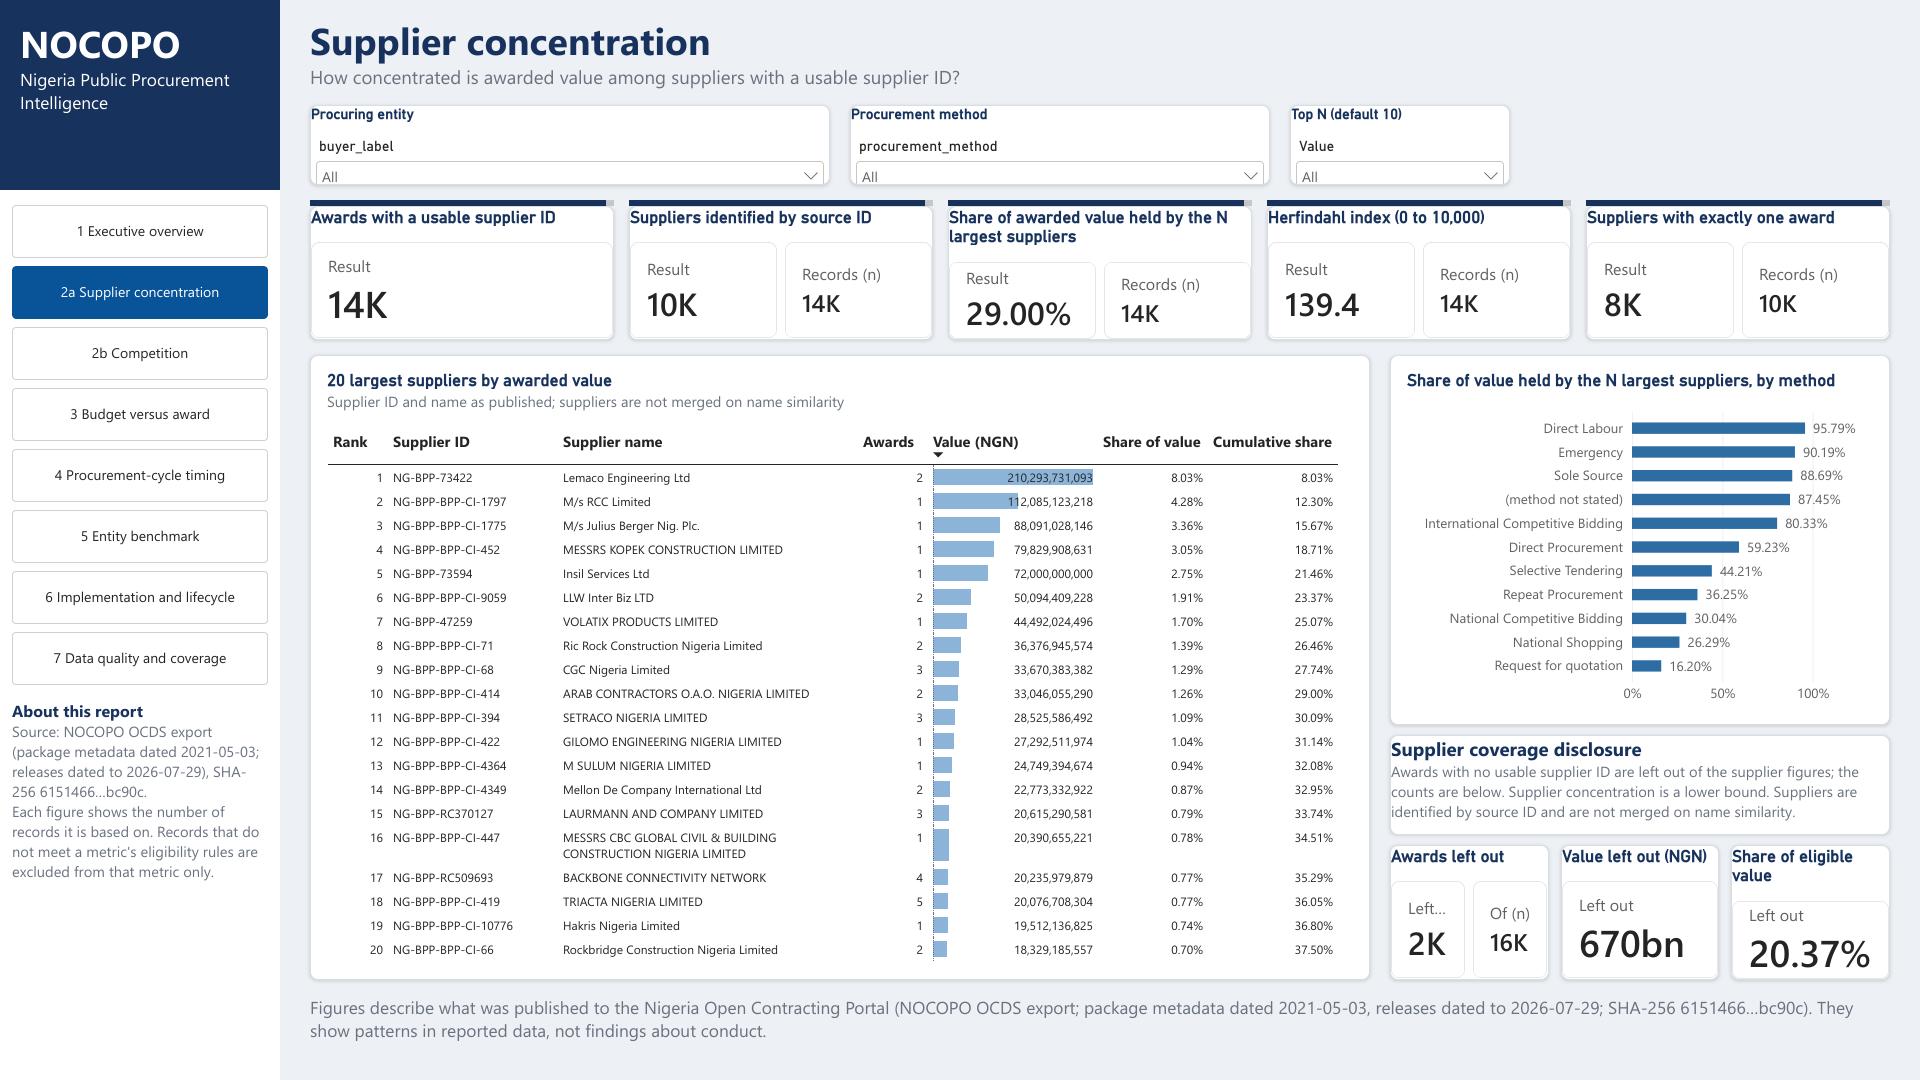

The dashboard page shown, as its layout file describes it:
{"tool":"powerbi","page":{"name":"2a Supplier concentration","canvas":[1920,1080],"ordinal":1},"visuals":[{"type":"textbox","box":[0,0,280,190],"z":0},{"type":"textbox","box":[0,190,280,890],"z":1},{"type":"textbox","box":[20,18,250,150],"z":2},{"type":"pageNavigator","box":[12,205,256,480],"z":3},{"type":"textbox","box":[12,700,256,360],"z":4},{"type":"textbox","box":[310,15,1580,80],"z":5},{"type":"textbox","box":[310,995,1580,70],"z":6},{"type":"slicer","title":"Procuring entity","fields":{"Values":["DimBuyer.buyer_label"]},"box":[310,105,520,80],"z":7},{"type":"slicer","title":"Procurement method","fields":{"Values":["DimMethod.procurement_method"]},"box":[850,105,420,80],"z":8},{"type":"slicer","title":"Top N (default 10)","fields":{"Values":["Top N.Value"]},"box":[1290,105,220,80],"z":9},{"type":"textbox","box":[310,200,304,6],"z":10},{"type":"cardVisual","title":"Awards with a usable supplier ID","fields":{"Data":["_Measures.M-S01 Eligible Awards"]},"box":[310,206,304,134],"z":11},{"type":"textbox","box":[629,200,304,6],"z":12},{"type":"cardVisual","title":"Suppliers identified by source ID","fields":{"Data":["_Measures.Suppliers (n)","_Measures.M-S01 Eligible Awards"]},"box":[629,206,304,134],"z":13},{"type":"textbox","box":[948,200,304,6],"z":14},{"type":"cardVisual","title":"Share of awarded value held by the N largest suppliers","fields":{"Data":["_Measures.Top N Supplier Share","_Measures.M-S01 Eligible Awards"]},"box":[948,206,304,134],"z":15},{"type":"textbox","box":[1267,200,304,6],"z":16},{"type":"cardVisual","title":"Herfindahl index (0 to 10,000)","fields":{"Data":["_Measures.Supplier HHI","_Measures.M-S01 Eligible Awards"]},"box":[1267,206,304,134],"z":17},{"type":"textbox","box":[1586,200,304,6],"z":18},{"type":"cardVisual","title":"Suppliers with exactly one award","fields":{"Data":["_Measures.Suppliers With One Award","_Measures.Suppliers (n)"]},"box":[1586,206,304,134],"z":19},{"type":"tableEx","title":"20 largest suppliers by awarded value","fields":{"Values":["_Measures.Supplier Rank","Suppliers.supplier_id","Suppliers.supplier_name","_Measures.M-S01 Eligible Awards","_Measures.Supplier Value (NGN)","_Measures.Supplier Share","_Measures.Cumulative Supplier Share"]},"box":[310,355,1060,625],"z":20},{"type":"clusteredBarChart","title":"Share of value held by the N largest suppliers, by method","fields":{"Category":["DimMethod.procurement_method"],"Y":["_Measures.Top N Supplier Share"]},"box":[1390,355,500,370],"z":21},{"type":"textbox","box":[1390,735,500,100],"z":22},{"type":"cardVisual","title":"Awards left out","fields":{"Data":["_Measures.M-S01 Excluded Awards","_Measures.Eligible Awards (n)"]},"box":[1390,845,158.7,135],"z":23},{"type":"cardVisual","title":"Value left out (NGN)","fields":{"Data":["_Measures.M-S01 Excluded Value (NGN)"]},"box":[1560.7,845,158.7,135],"z":24},{"type":"cardVisual","title":"Share of eligible value","fields":{"Data":["_Measures.M-S01 Excluded Value Share"]},"box":[1731.3,845,158.7,135],"z":25}]}

Visuals, with their boxes in screenshot pixels (x1, y1, x2, y2), scaled from the page's 1920x1080 canvas onto the 1920x1080 screenshot:
textbox: 0:0:280:190
textbox: 0:190:280:1079
textbox: 20:18:270:168
pageNavigator: 12:205:268:685
textbox: 12:700:268:1060
textbox: 310:15:1890:95
textbox: 310:995:1890:1065
"Procuring entity" slicer: 310:105:830:185
"Procurement method" slicer: 850:105:1270:185
"Top N (default 10)" slicer: 1290:105:1510:185
textbox: 310:200:614:206
"Awards with a usable supplier ID" cardVisual: 310:206:614:340
textbox: 629:200:933:206
"Suppliers identified by source ID" cardVisual: 629:206:933:340
textbox: 948:200:1252:206
"Share of awarded value held by the N largest suppliers" cardVisual: 948:206:1252:340
textbox: 1267:200:1571:206
"Herfindahl index (0 to 10,000)" cardVisual: 1267:206:1571:340
textbox: 1586:200:1890:206
"Suppliers with exactly one award" cardVisual: 1586:206:1890:340
"20 largest suppliers by awarded value" tableEx: 310:355:1370:980
"Share of value held by the N largest suppliers, by method" clusteredBarChart: 1390:355:1890:725
textbox: 1390:735:1890:835
"Awards left out" cardVisual: 1390:845:1549:980
"Value left out (NGN)" cardVisual: 1561:845:1719:980
"Share of eligible value" cardVisual: 1731:845:1890:980
